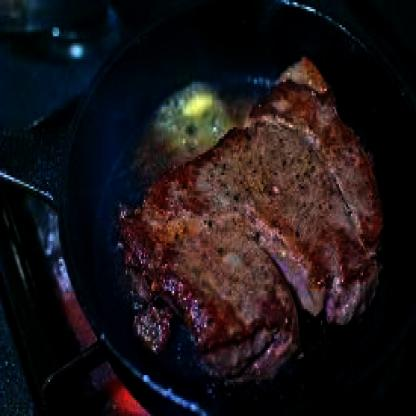Carne: (113, 82, 389, 390)
